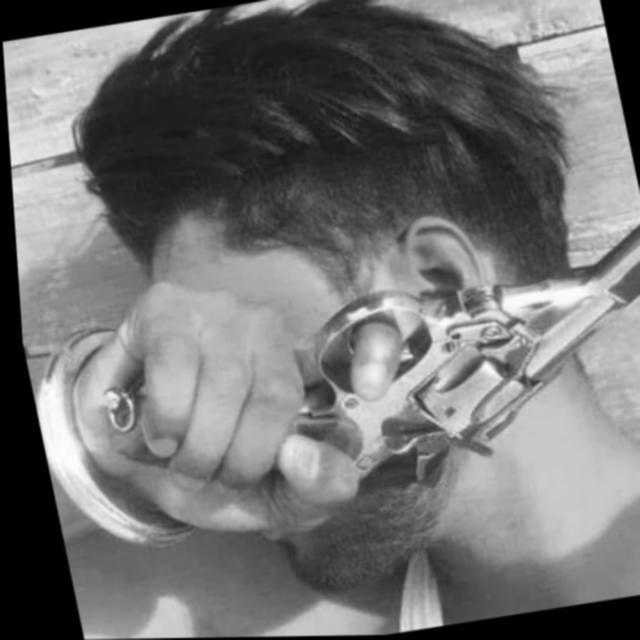weapon: (60, 218, 640, 546)
